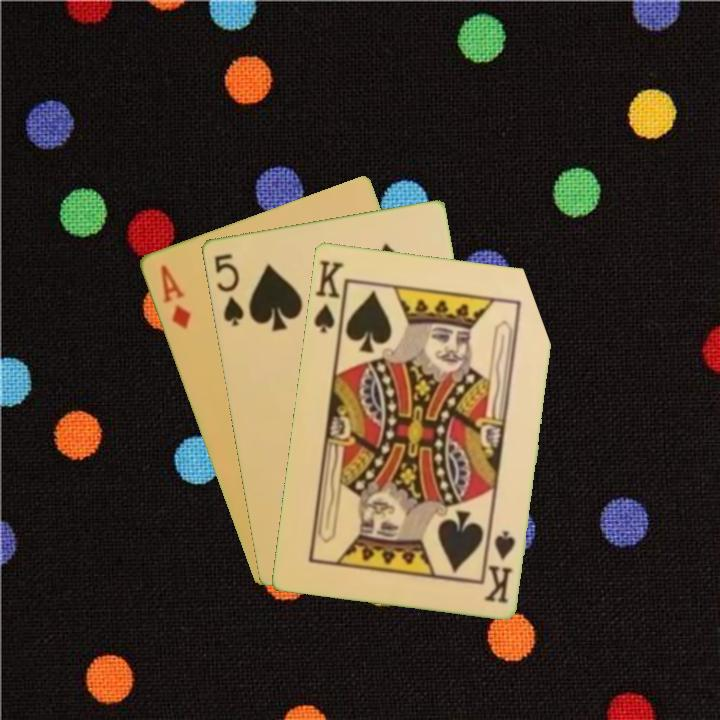5s: (210, 249, 246, 329)
Ad: (156, 261, 194, 332)
Ks: (480, 526, 518, 605), (310, 256, 346, 336)
